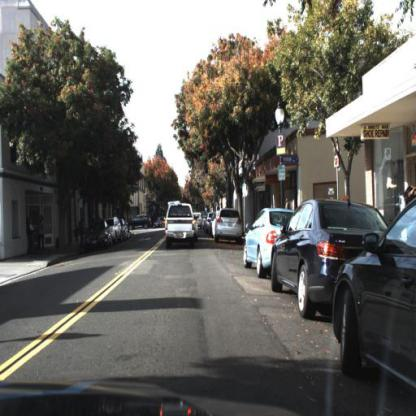car: (332, 196, 416, 406), (272, 200, 379, 321), (240, 205, 298, 281), (244, 207, 277, 274), (164, 200, 197, 249), (214, 210, 244, 243), (85, 217, 111, 255), (129, 214, 154, 230), (112, 216, 122, 247), (120, 220, 129, 243), (195, 212, 204, 232)
pedestrian: (28, 211, 37, 258), (37, 213, 46, 255), (79, 217, 87, 247)
